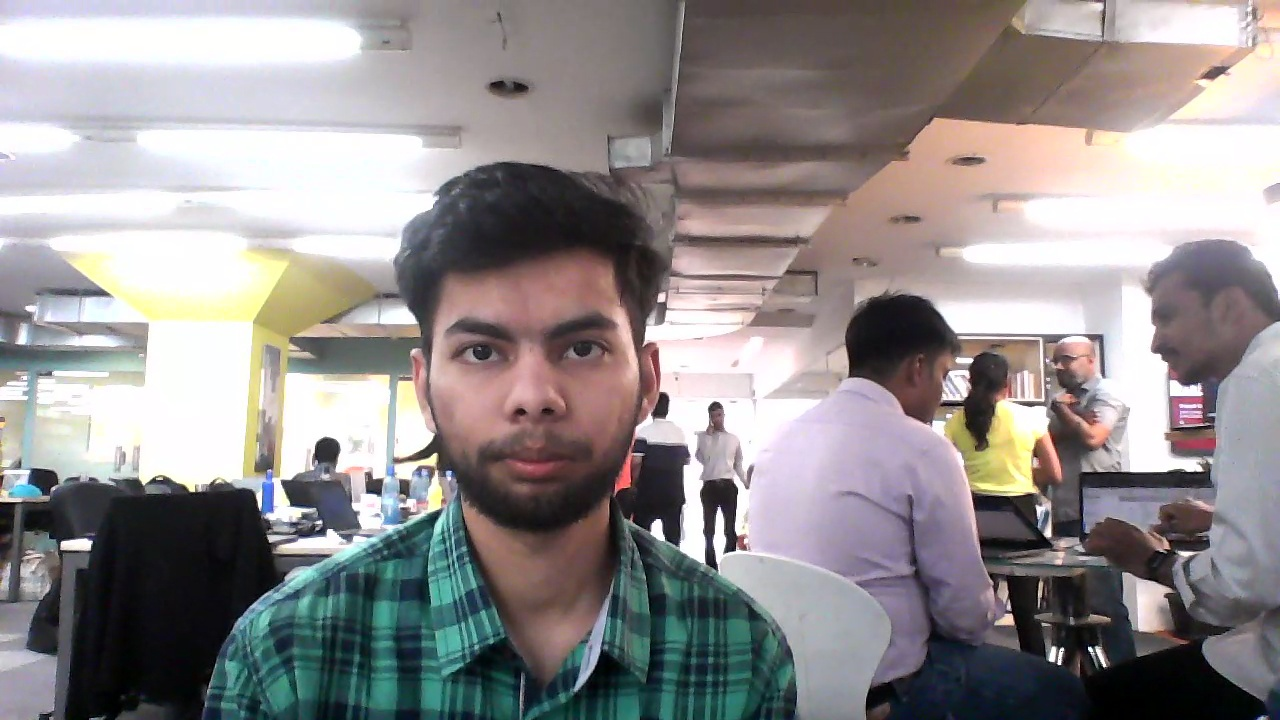open: (396, 160, 666, 558)
